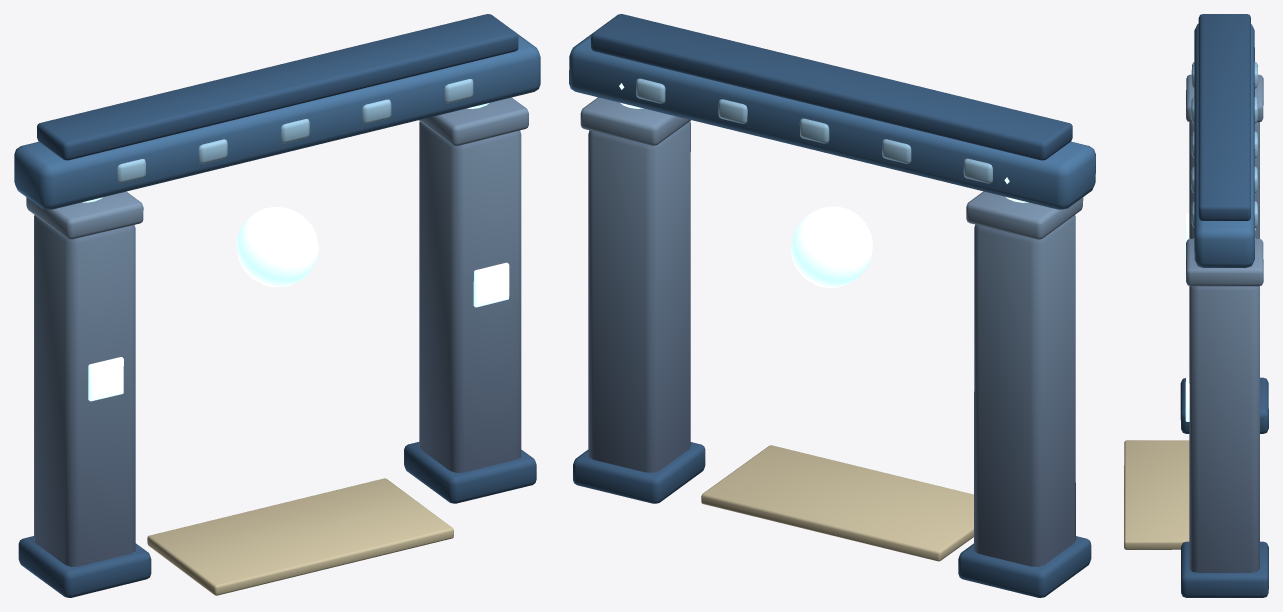
3 renders of one model, left to right at view 1: azimuth 30°, elevation 25°; view 2: azimuth 150°, elevation 25°; view 3: azimuth 270°, elevation 25°, orthographic. The views are drawn at different scales.
Visible parts, largest first — view 1: gate_0b49a28f; view 2: gate_0b49a28f; view 3: gate_0b49a28f.
Boxes of the visible parts, x1,y1,x2,y2 form: gate_0b49a28f: (14,14,540,597); gate_0b49a28f: (569,14,1095,597); gate_0b49a28f: (1124,14,1268,597).
Size of the model in its own units: 5.01 by 4.29 by 1.44.
